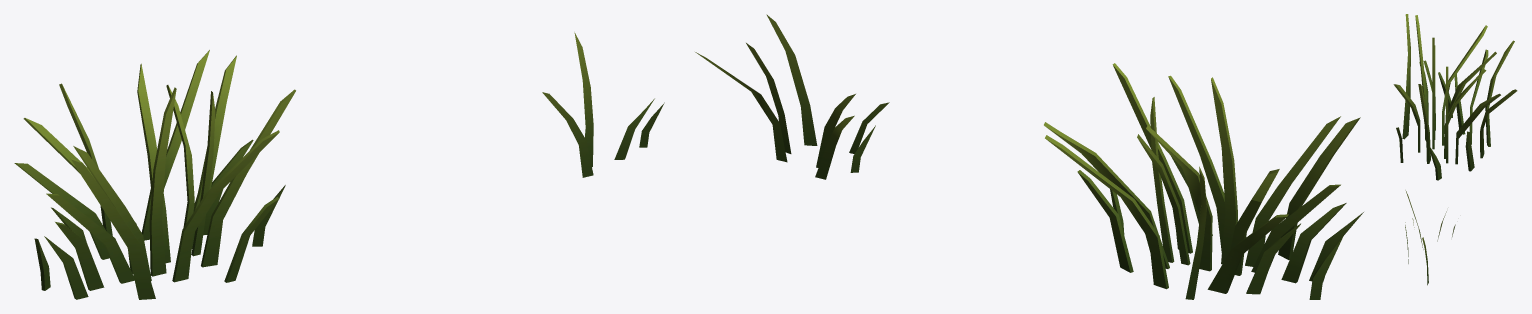
File: grass.glb
3 views of the same model, side by side, from view 1: azimuth 30°, elevation 25°; view 2: azimuth 150°, elevation 25°; view 3: azimuth 270°, elevation 25° (orthographic). The views are drawn at different scales.
Parts seen in each view (by area): view 1: Grass_Large_Extruded, Grass_Small; view 2: Grass_Large_Extruded, Grass_Small; view 3: Grass_Large_Extruded, Grass_Small.
Part boxes in pixels (x1,y1,x2,y2): Grass_Large_Extruded: (14,50,295,299); Grass_Small: (542,32,664,177); Grass_Large_Extruded: (1044,63,1363,299); Grass_Small: (695,14,889,179); Grass_Large_Extruded: (1393,14,1517,180); Grass_Small: (1405,190,1455,285).
Size of the model in its own units: 1.84 by 0.5112 by 0.4973.
1 material, 1 textured.
